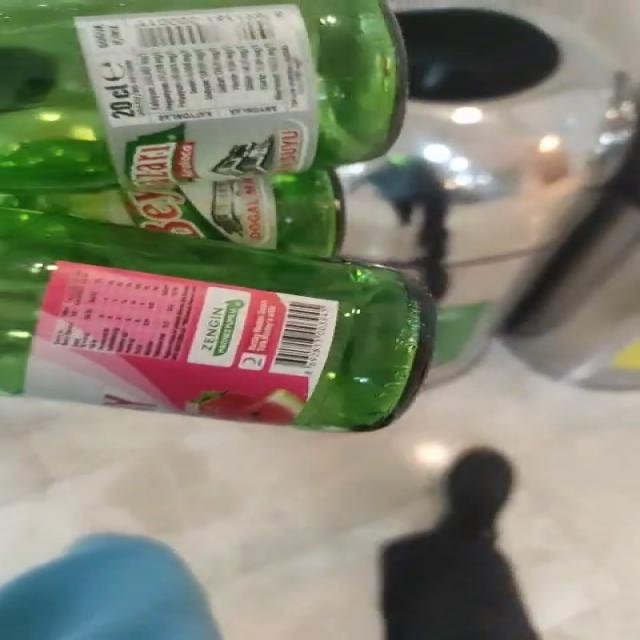glass: (1, 0, 436, 432)
